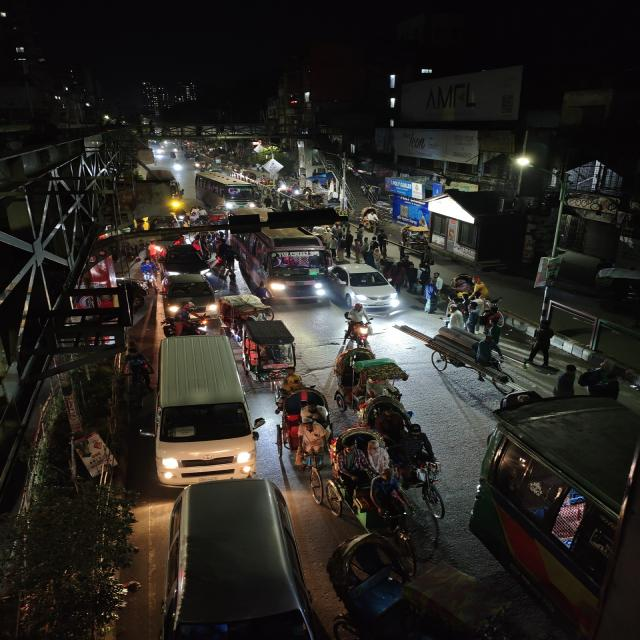bus: (472, 393, 640, 640), (149, 333, 265, 489), (247, 228, 332, 302), (195, 171, 258, 211)
car: (155, 478, 323, 640), (149, 334, 264, 486), (330, 261, 399, 315), (160, 273, 219, 317), (157, 244, 215, 278)
pedestrian: (477, 326, 508, 370), (527, 319, 555, 367), (554, 362, 582, 396), (399, 260, 422, 292), (334, 231, 358, 261), (420, 278, 440, 314), (372, 229, 392, 257), (439, 306, 460, 331), (426, 271, 444, 299), (432, 272, 444, 292)
rickshaw: (323, 418, 447, 530), (277, 377, 331, 475), (239, 318, 302, 388), (343, 351, 412, 401), (222, 298, 276, 334)
